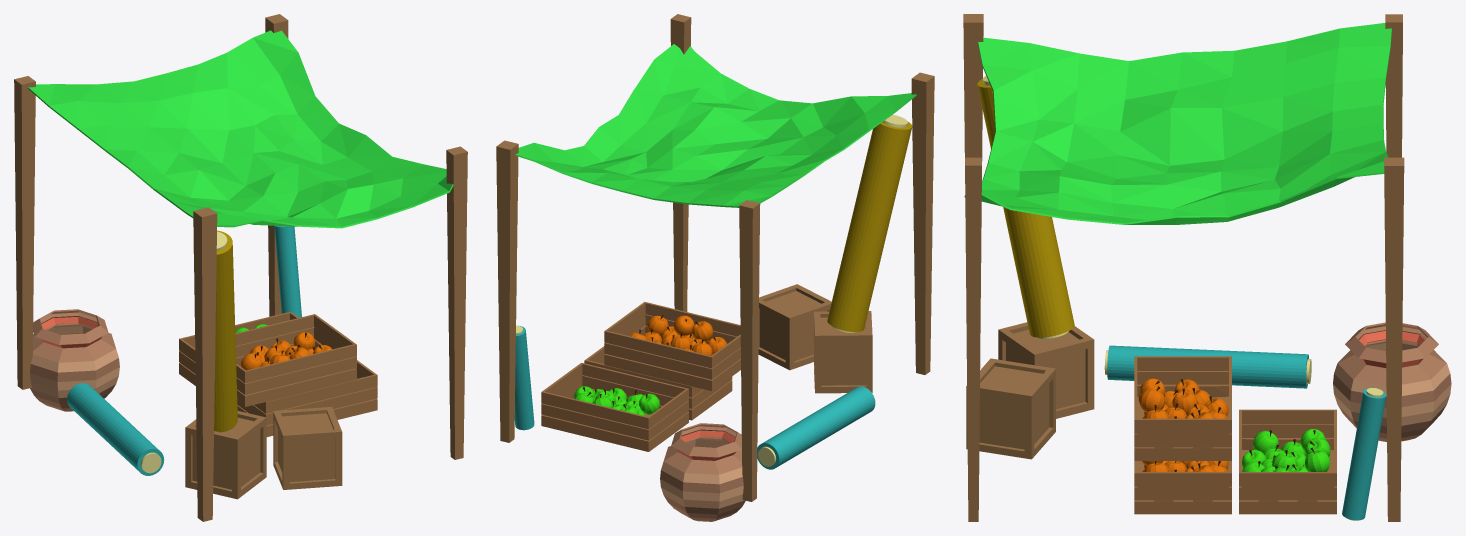
File: SL_Shop2.fbx
3 views of the same model, side by side, from view 1: azimuth 30°, elevation 25°; view 2: azimuth 150°, elevation 25°; view 3: azimuth 270°, elevation 25° (orthographic). The views are drawn at different scales.
Parts seen in each view (by area): view 1: SL_Shop.005; view 2: SL_Shop.005; view 3: SL_Shop.005.
Boxes of the visible parts, left/top/right/bottom form: SL_Shop.005: left=14, top=14, right=467, bottom=521; SL_Shop.005: left=496, top=14, right=934, bottom=521; SL_Shop.005: left=963, top=14, right=1451, bottom=521.
Size of the model in its own units: 615 by 718 by 815.
